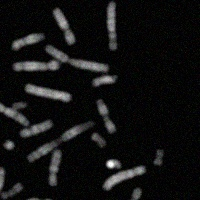chromosome: (28, 120, 96, 163), (46, 45, 108, 71), (101, 166, 146, 191), (0, 92, 29, 126), (24, 83, 72, 103), (53, 7, 76, 47), (13, 58, 59, 73), (96, 99, 115, 133), (105, 3, 118, 51), (11, 32, 44, 50), (21, 120, 53, 138), (48, 150, 62, 188), (0, 182, 23, 199), (90, 73, 117, 86), (114, 188, 141, 200), (91, 132, 106, 148), (154, 147, 164, 168), (2, 138, 17, 151), (106, 158, 121, 169), (0, 168, 5, 193), (26, 197, 62, 200)
